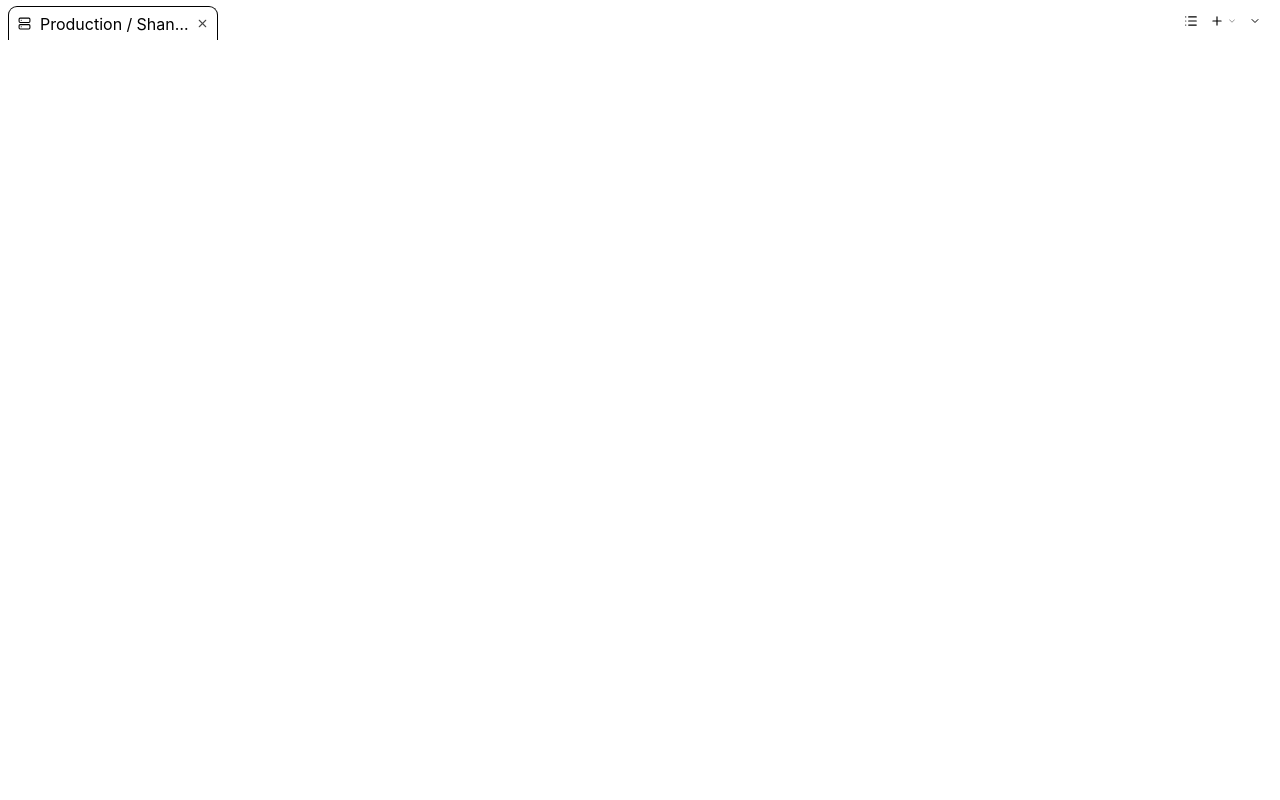
TabBar overflow › keeps custom names and full host details available for a single long tab
Click the button named "All tabs" at (1191, 21), box [1176, 6, 1206, 36]
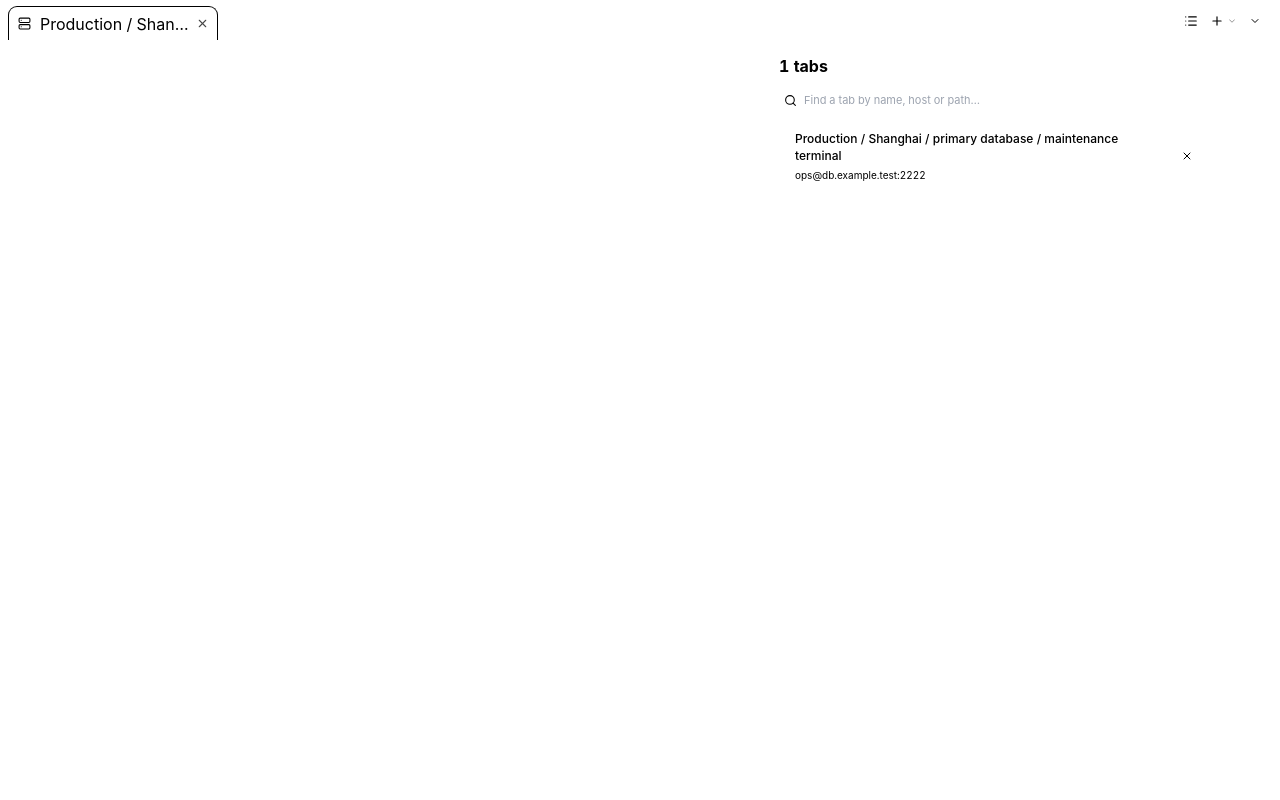
expect the button "Production / Shanghai / primary database / maintenance terminal" shows "ops@db.example.test:2222": met, box [772, 122, 1174, 190]
Type "db.example" into the field at (996, 100), box [804, 92, 1188, 108]
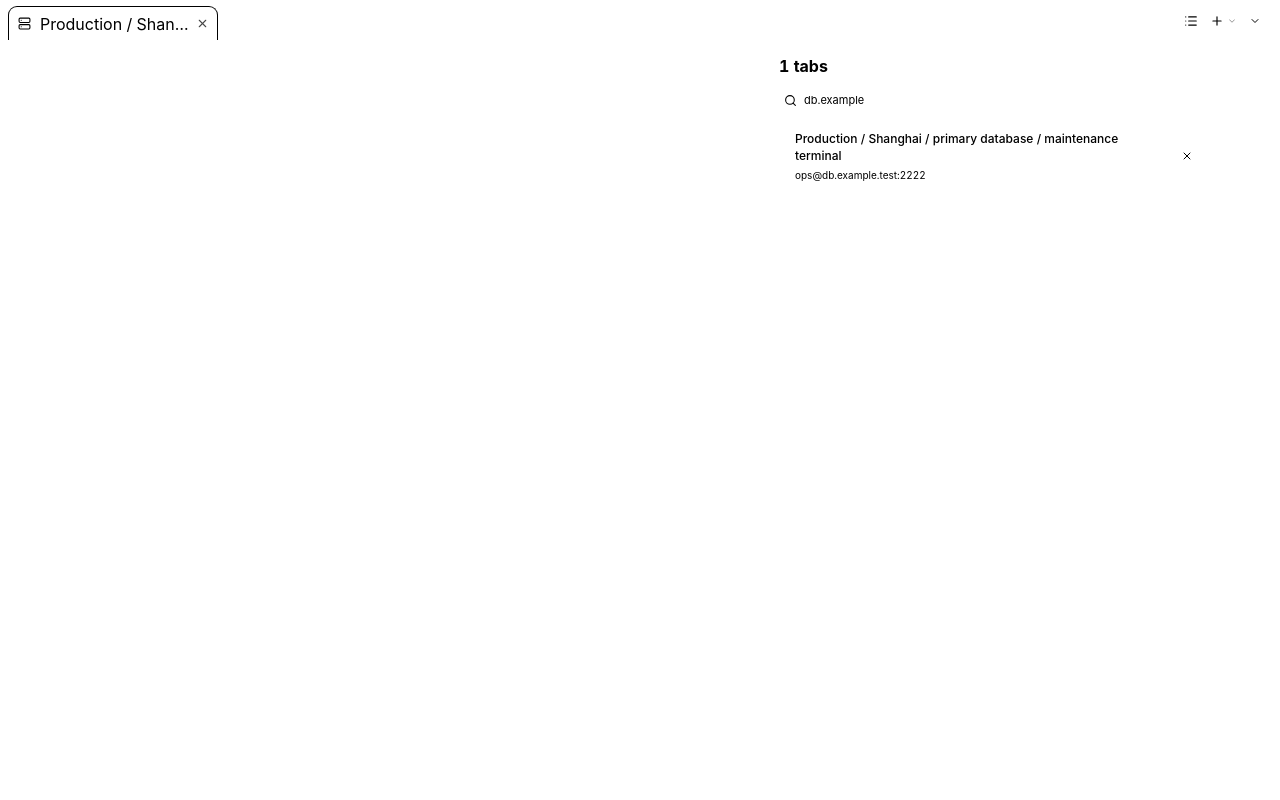
expect the number of buttons with class "tab-overflow-main" is 1: met, box [772, 122, 1174, 190]
Replace the text in the field with "missing" at (996, 100), box [804, 92, 1188, 108]
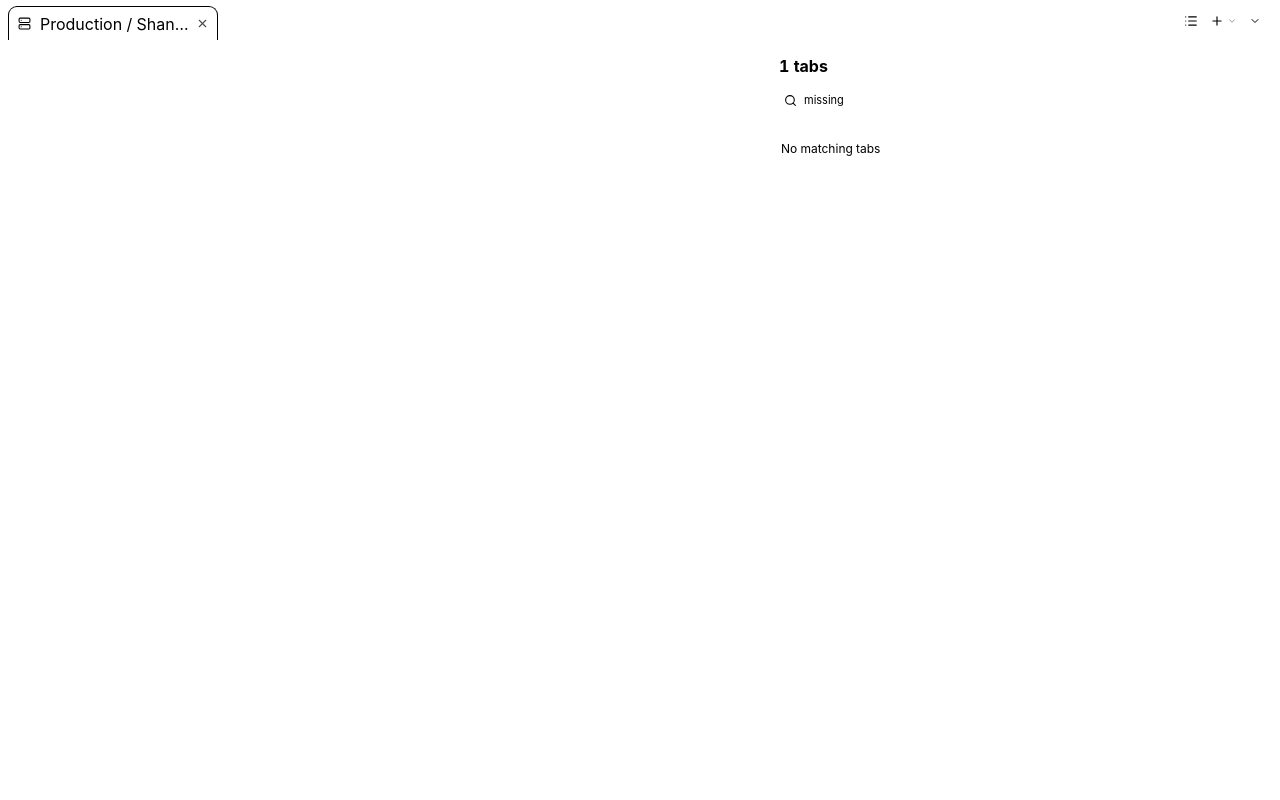
expect the message reads "No matching tabs": met, box [781, 140, 880, 156]
